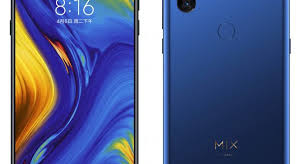mi: (157, 1, 295, 164)
